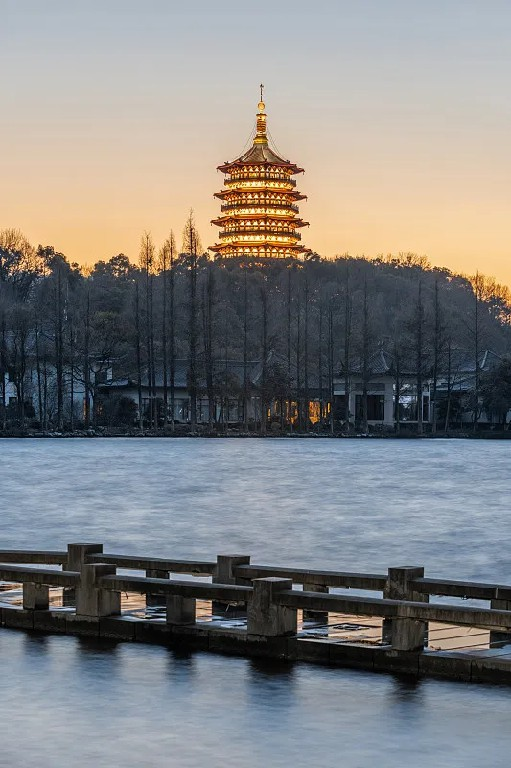Leifeng: (209, 81, 311, 273)
